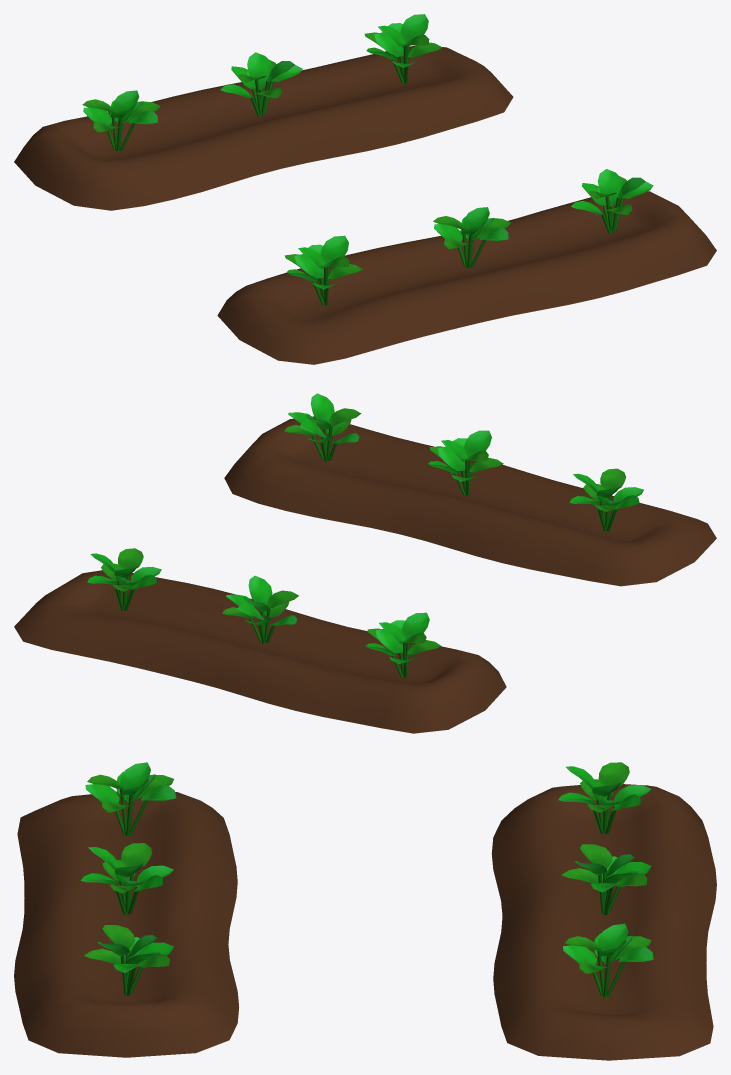
The model's file is Beetroot2.fbx.
The picture shows the model from 3 angles, top to bottom: view 1: azimuth 30°, elevation 25°; view 2: azimuth 150°, elevation 25°; view 3: azimuth 270°, elevation 25°; orthographic projection. The views are drawn at different scales.
Visible parts, largest first — view 1: 2; view 2: 2; view 3: 2.
Part boxes in pixels (x1,y1,x2,y2): 2: [14, 14, 716, 364]; 2: [14, 393, 716, 733]; 2: [14, 762, 716, 1060].
Bounding box in the file's own units: 272 × 38.72 × 310.
